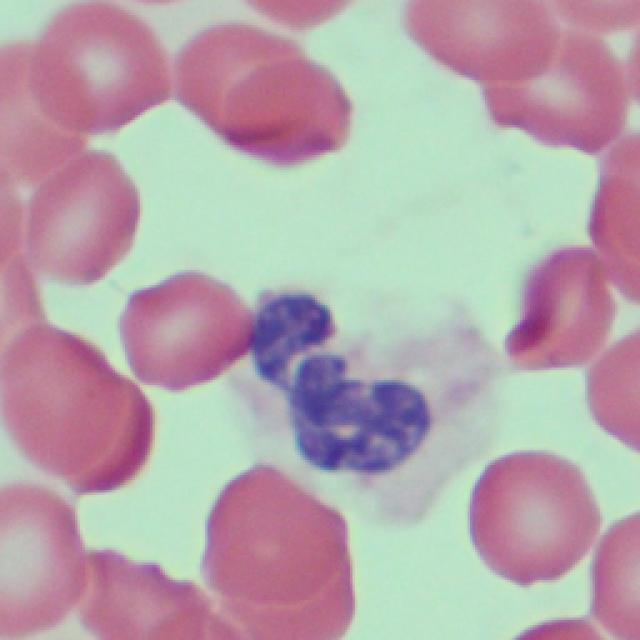RBC: (160, 4, 357, 154), (201, 460, 356, 639), (4, 328, 154, 498), (476, 1, 630, 155), (1, 132, 135, 287), (113, 262, 257, 400), (460, 444, 596, 590), (27, 0, 174, 132), (508, 242, 612, 374), (0, 480, 82, 640), (587, 127, 640, 294), (589, 496, 640, 638), (583, 322, 640, 434)
WBC: (241, 275, 481, 507)
